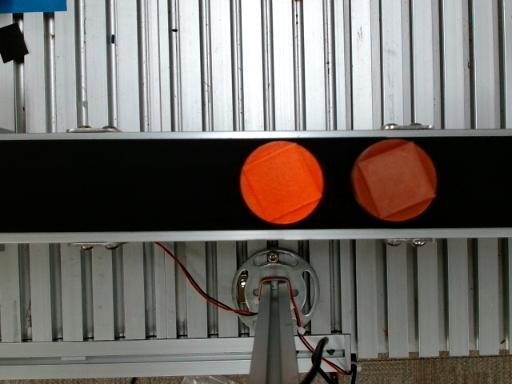Square: (358, 141, 437, 219), (243, 143, 321, 221)
